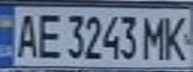2: (81, 11, 106, 61)
3: (118, 12, 142, 61), (63, 10, 84, 60)
4: (103, 11, 124, 60)
A: (9, 10, 39, 60)
E: (33, 9, 63, 60)
K: (160, 11, 193, 62)
M: (139, 11, 172, 61)
